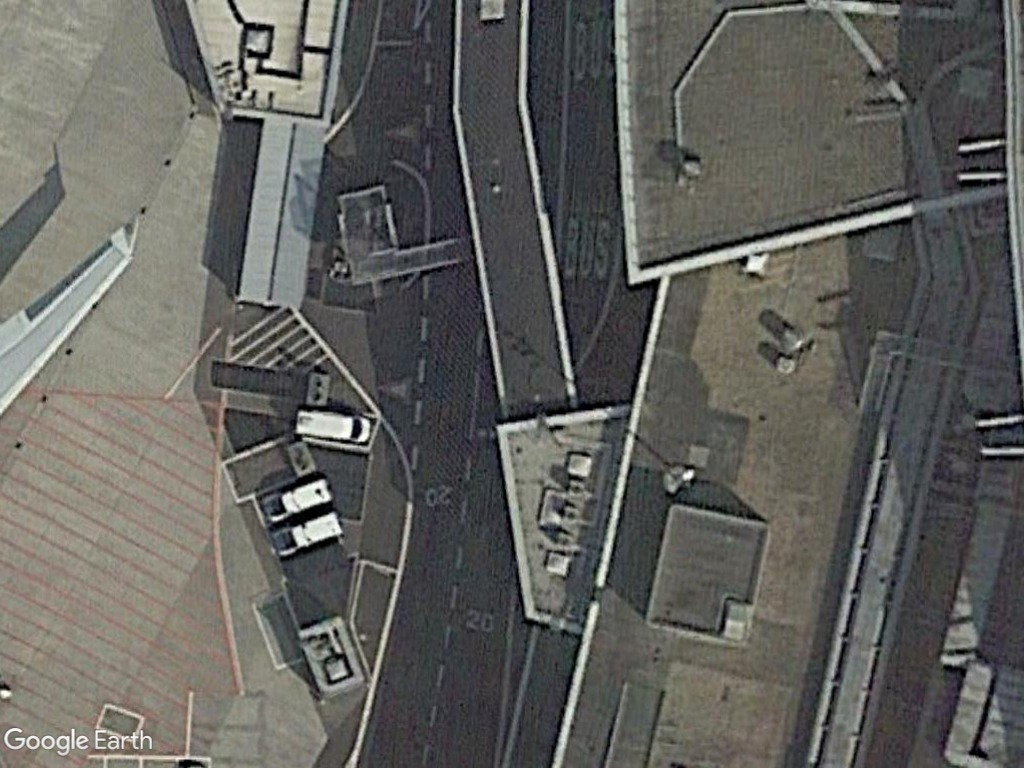van: (292, 406, 377, 449)
